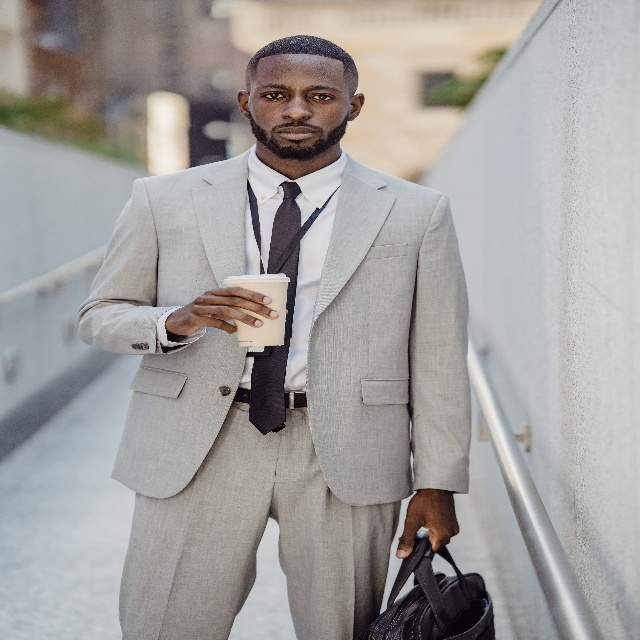Sin_guantes: (167, 285, 279, 336), (395, 489, 460, 559)
